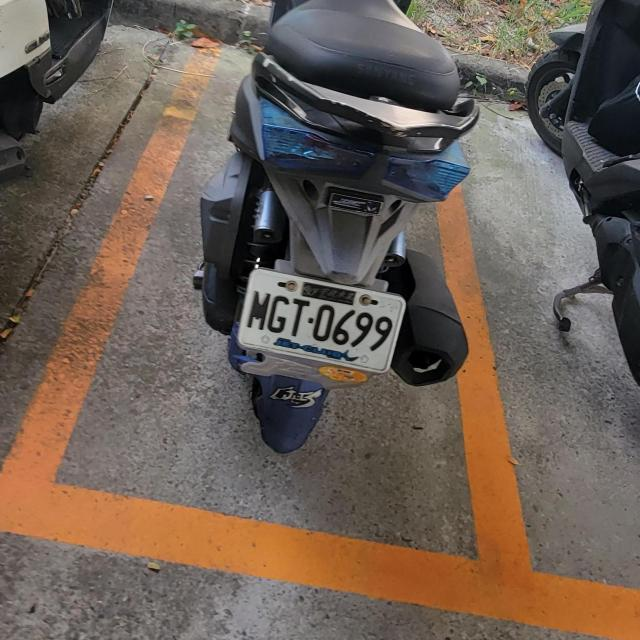W: (232, 264, 408, 375)
